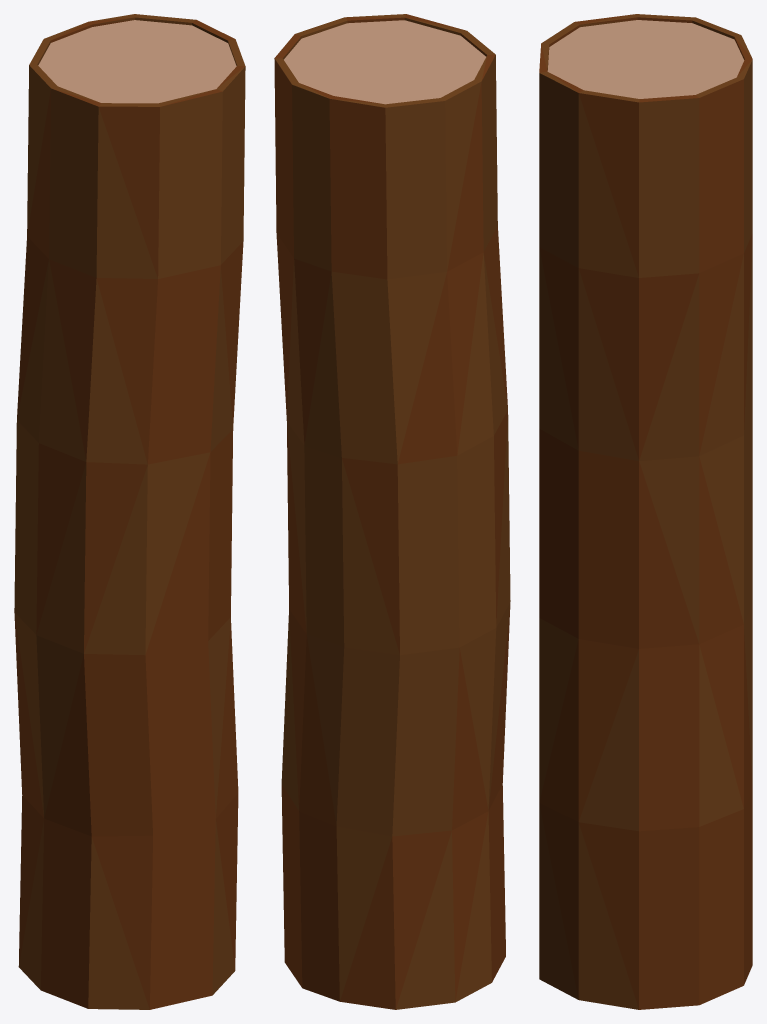
The model's file is log1.fbx.
3 renders of one model, left to right at view 1: azimuth 30°, elevation 25°; view 2: azimuth 150°, elevation 25°; view 3: azimuth 270°, elevation 25°, orthographic.
Parts seen in each view (by area): view 1: log; view 2: log; view 3: log.
Part boxes in pixels (<box>): log: <box>14,14,245,1009</box>; log: <box>274,14,510,1009</box>; log: <box>539,14,752,1009</box>.
Size of the model in its own units: 13.02 by 56.06 by 11.89.
